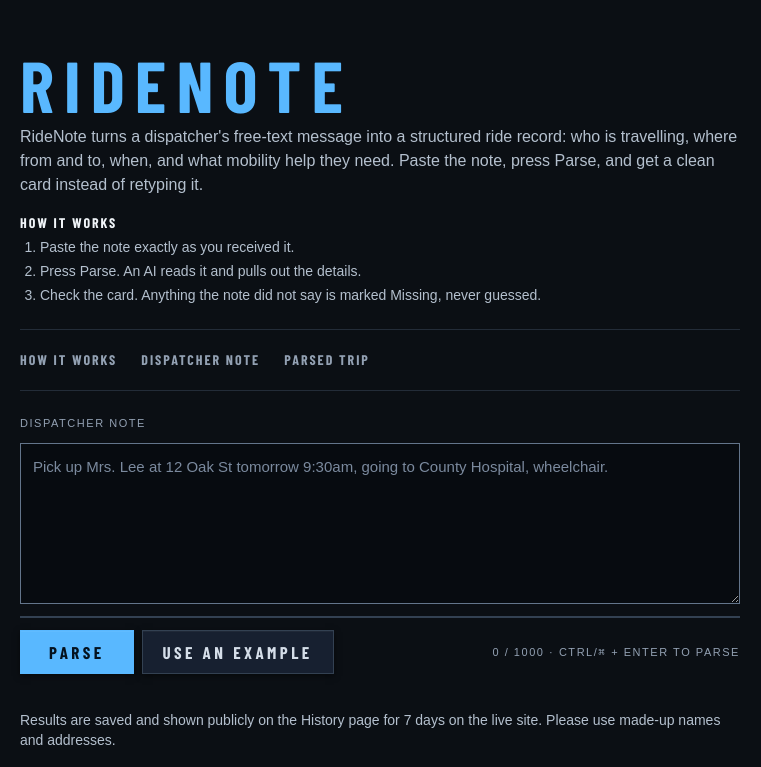
Test: Home page › posts the trimmed note and shows a card, not raw JSON
In the text box labelled "Dispatcher note": (380, 524) [20,443,740,604], type "  Pick up Mrs. Lee  "
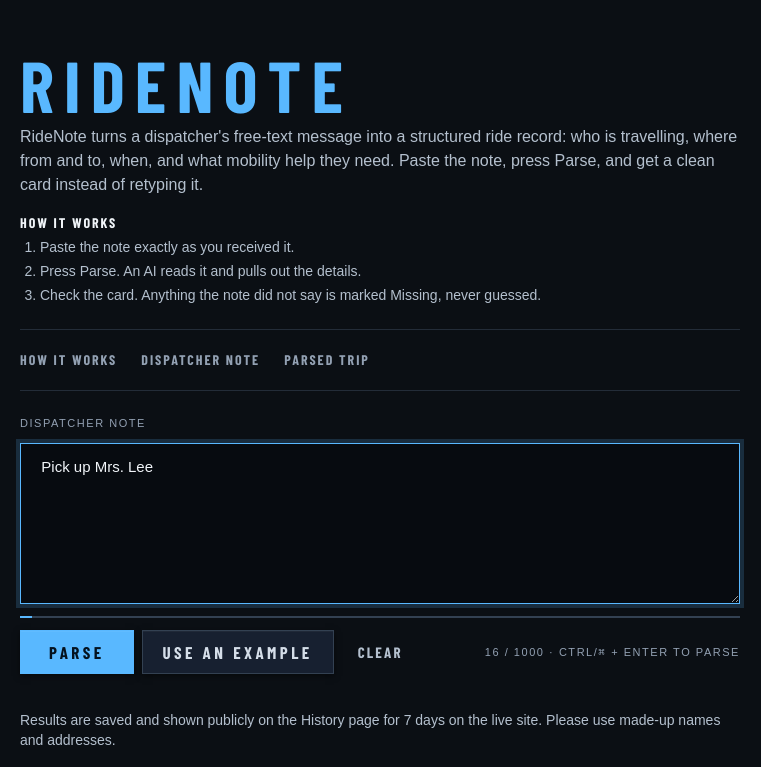
Click the button "Parse": (77, 652) [20,630,134,674]
(page scrolled)
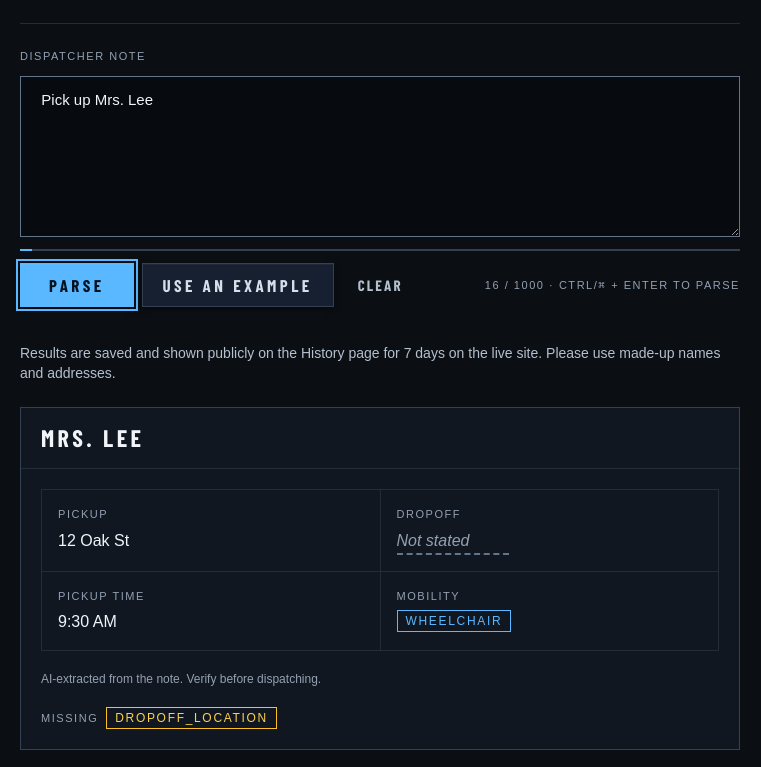
Check: the heading "Mrs. Lee" is shown, box [21,408,739,469]
Check: the text "12 Oak St" is shown, box [58,532,129,549]
Check: the list item "Wheelchair" is shown, box [396,610,511,632]
